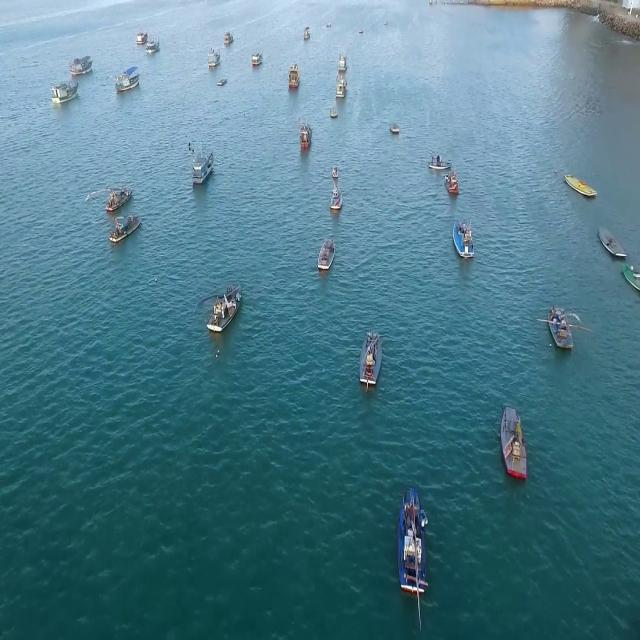ship: (396, 492, 429, 602), (497, 406, 528, 484), (206, 284, 240, 334), (359, 332, 384, 395), (548, 307, 578, 348), (596, 228, 628, 260), (453, 218, 477, 260), (188, 148, 214, 184), (316, 235, 338, 277), (111, 215, 142, 244), (566, 176, 599, 199), (297, 112, 315, 154), (135, 31, 162, 58), (115, 66, 141, 92), (51, 79, 79, 103), (107, 187, 132, 210), (68, 55, 93, 77), (285, 63, 305, 90), (428, 152, 453, 173), (331, 177, 345, 212), (205, 48, 224, 70), (390, 116, 404, 141), (335, 74, 347, 103), (250, 50, 264, 70), (300, 28, 314, 46), (222, 30, 236, 47)
